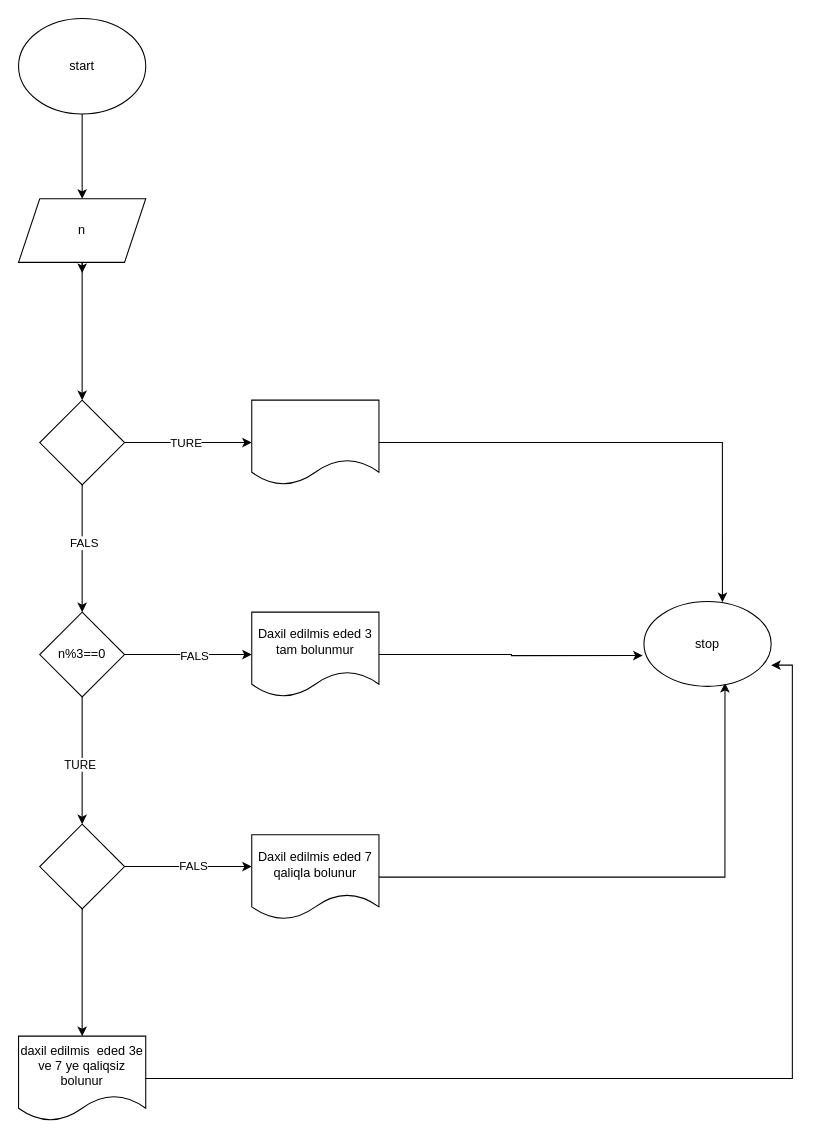
Image size: 819x1139. Some labels were removed from this diagram. Each missing label, with the centre of its shape:
"Duzgun ededi daxil edin" belongs at pixel 315 442.
"n <=0" belongs at pixel 82 442.
"n%7==0" belongs at pixel 82 866.
